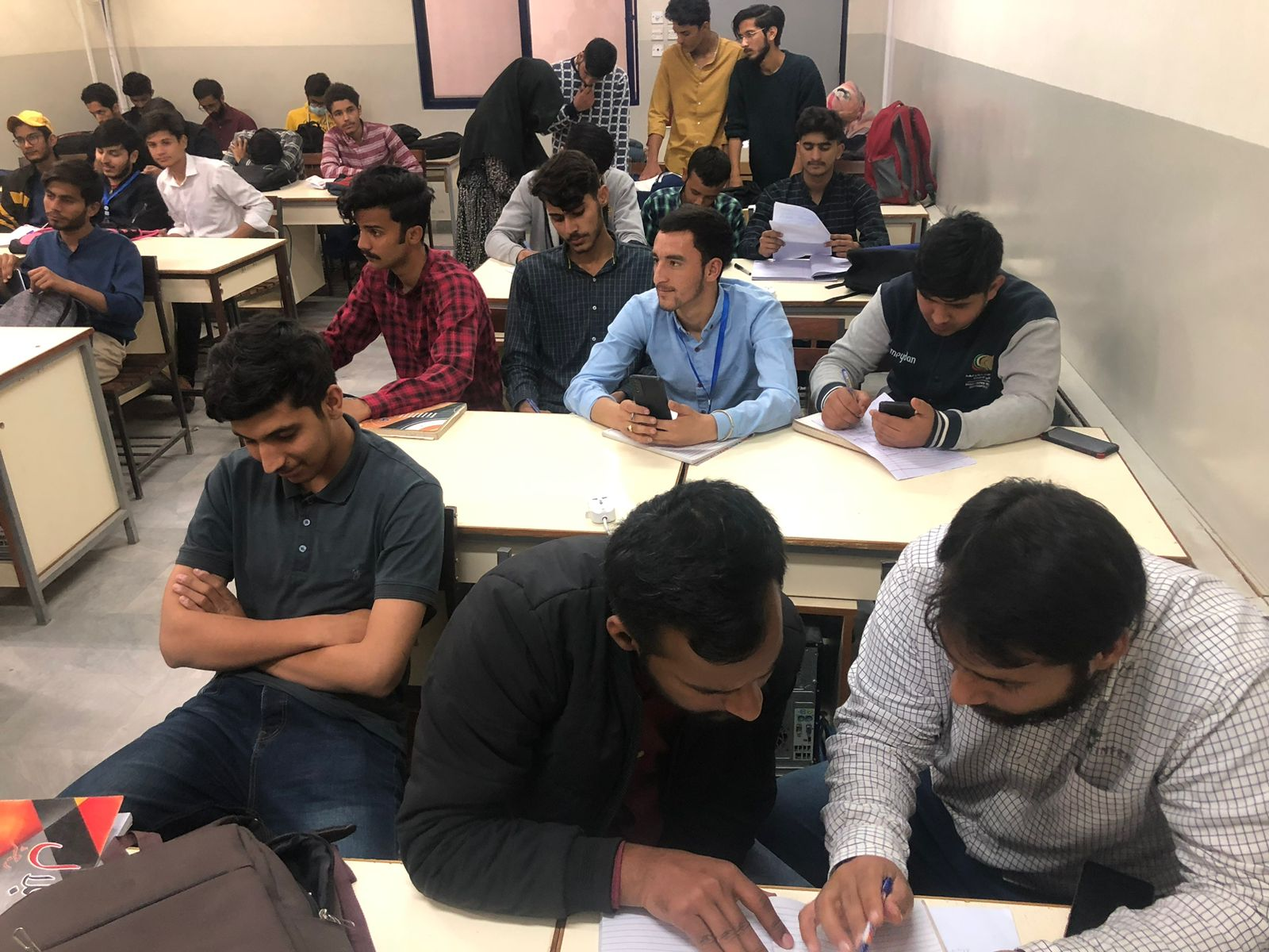non-cheating: (192, 300, 361, 501), (910, 202, 1009, 338), (525, 141, 612, 254), (32, 157, 110, 240), (790, 103, 849, 182), (141, 106, 195, 176), (89, 110, 141, 180), (679, 140, 733, 207), (319, 76, 371, 144), (7, 99, 58, 165), (186, 75, 230, 126), (80, 82, 122, 126), (297, 68, 335, 116)
phone: (590, 365, 720, 456), (866, 383, 959, 456)
